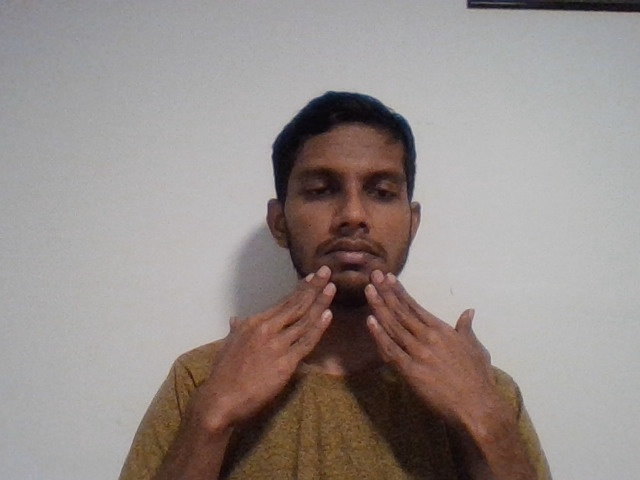thanks: (144, 261, 567, 451)
